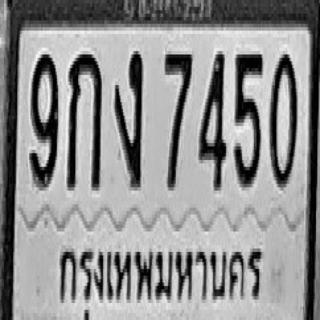A01: (66, 50, 102, 189)
A07: (114, 49, 143, 186)
N00: (269, 49, 297, 186)
N04: (198, 50, 226, 189)
N05: (234, 49, 263, 186)
N07: (164, 51, 192, 187)
N09: (30, 49, 58, 186)
P04: (52, 224, 269, 320)
